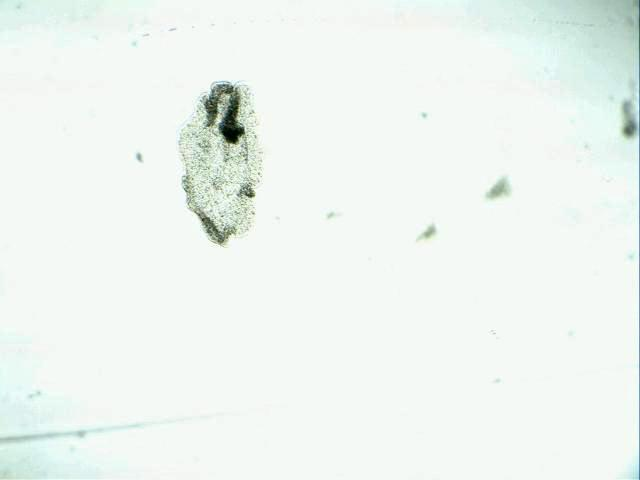Placozoan: (176, 81, 265, 249)
